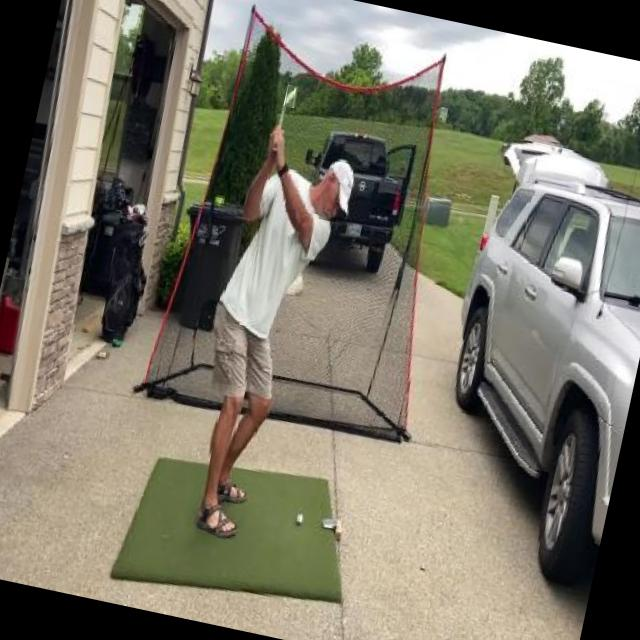club head: (283, 84, 298, 108)
